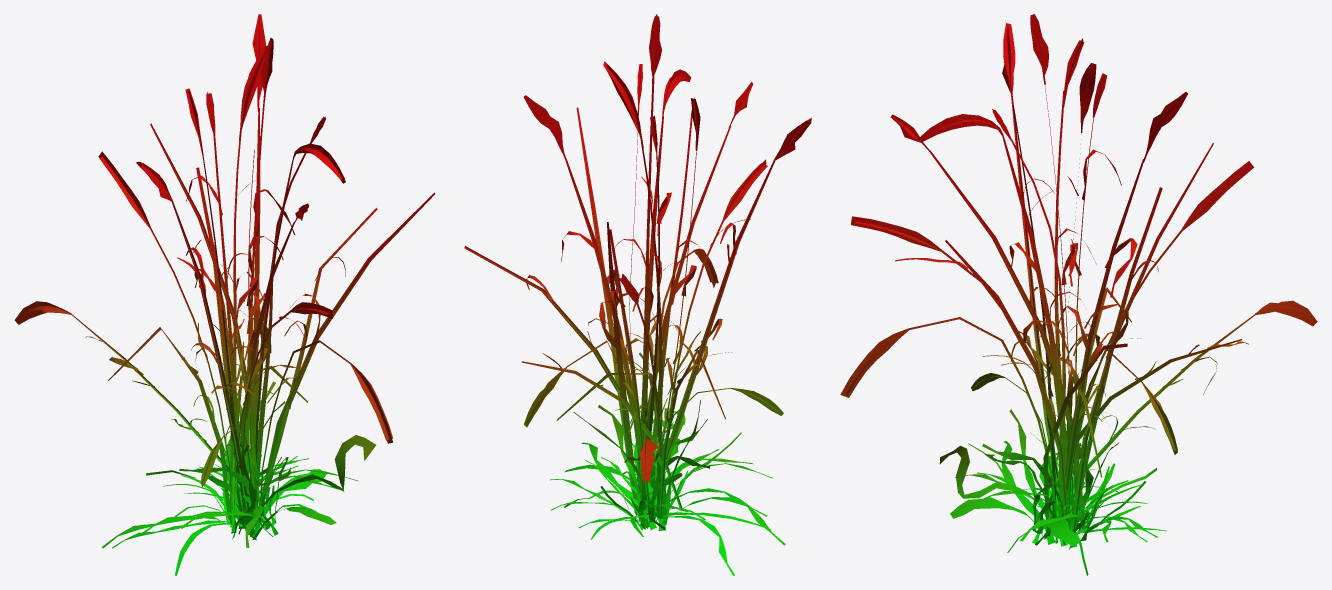
File: Wheat Grass_LOD1_Var1_tdcrdbur.fbx
3 renders of one model, left to right at view 1: azimuth 30°, elevation 25°; view 2: azimuth 150°, elevation 25°; view 3: azimuth 270°, elevation 25°, orthographic. The views are drawn at different scales.
Visible parts, largest first — view 1: _8486_Var1_LOD1; view 2: _8486_Var1_LOD1; view 3: _8486_Var1_LOD1.
Part boxes in pixels (x1,y1,x2,y2): _8486_Var1_LOD1: (14,14,434,575); _8486_Var1_LOD1: (464,14,811,575); _8486_Var1_LOD1: (840,14,1317,575).
Bounding box in the file's own units: 81.73 × 133 × 106.
